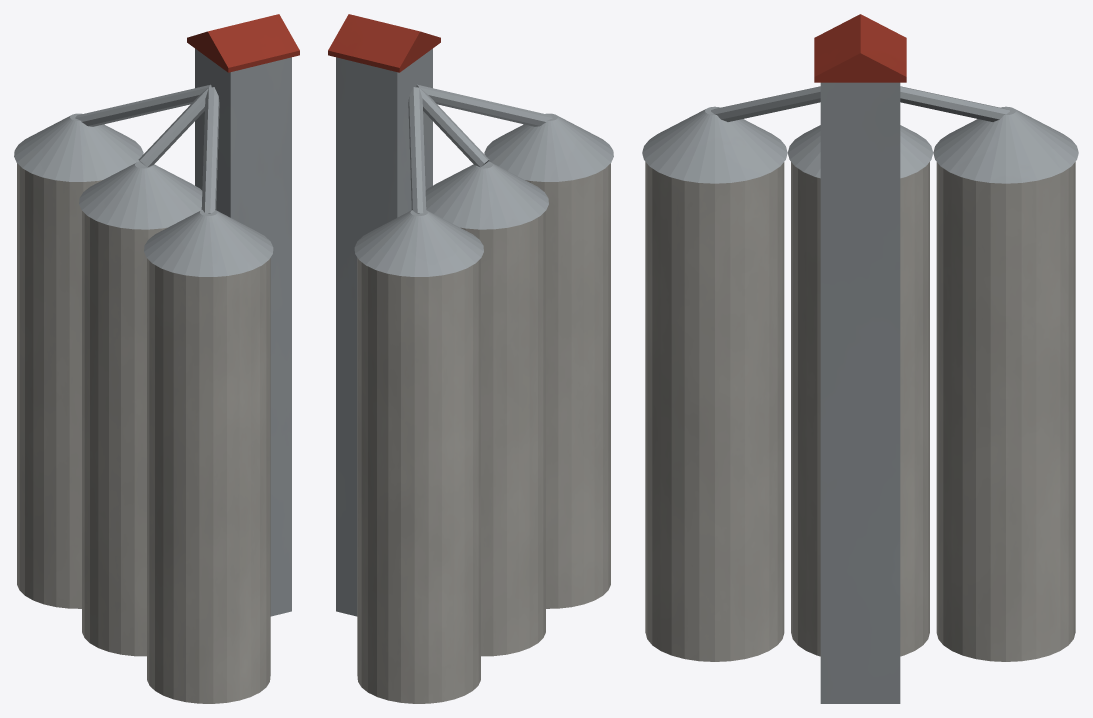
The model's file is pv_silo.glb.
3 renders of one model, left to right at view 1: azimuth 30°, elevation 25°; view 2: azimuth 150°, elevation 25°; view 3: azimuth 270°, elevation 25°, orthographic. The views are drawn at different scales.
Parts seen in each view (by area): view 1: dum; view 2: dum; view 3: dum.
Boxes of the visible parts, x1,y1,x2,y2 form: dum: (14, 14, 299, 703); dum: (328, 14, 613, 703); dum: (642, 14, 1078, 703).
Size of the model in its own units: 7.48 by 21.74 by 13.17.
1 material, 1 textured.
